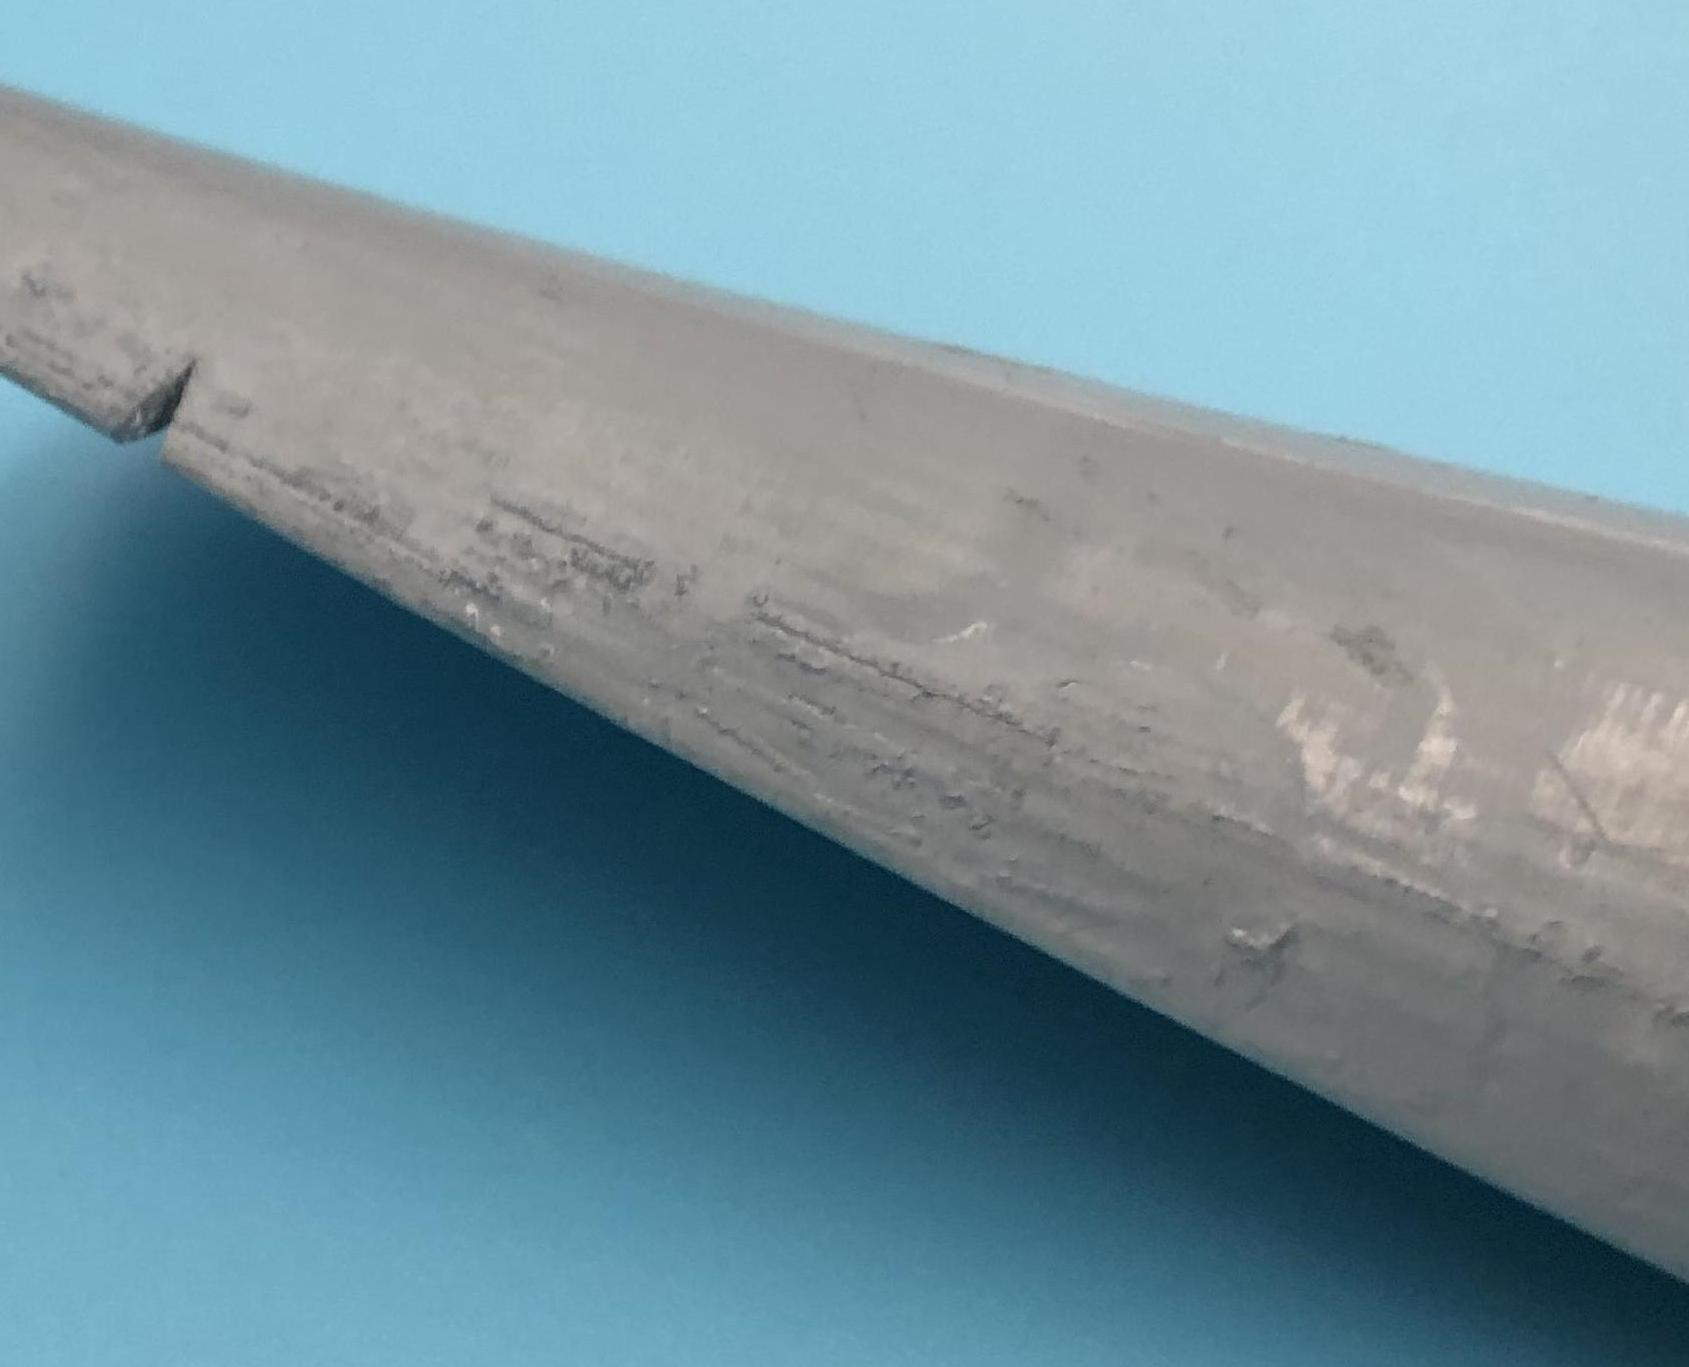groove: (100, 363, 212, 470)
